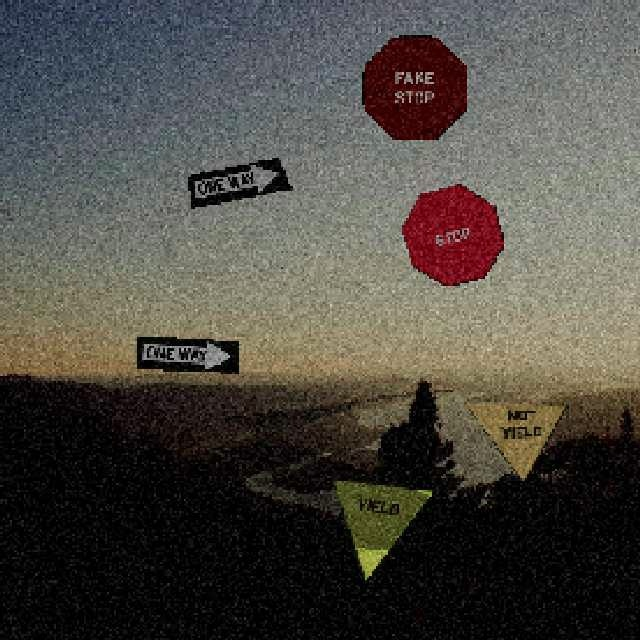FAKE_STOP: (361, 34, 465, 138)
NOT_YIELD: (462, 401, 566, 482)
ONE_WAY_ right: (186, 156, 290, 207), (134, 334, 238, 372)
STOP: (399, 182, 503, 285)
YIELD: (330, 477, 434, 581)
